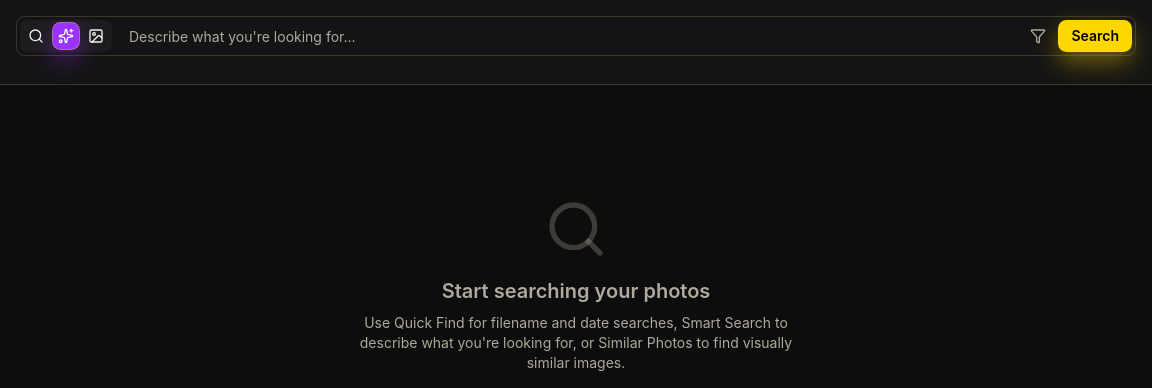
SearchPage Component › displays empty state variations
The image size is (1152, 388).
Type "none" into the field with placeholder "Describe what you're looking for...".
click(576, 36); type("none")  # box [16,16,1136,56]
Then press Enter
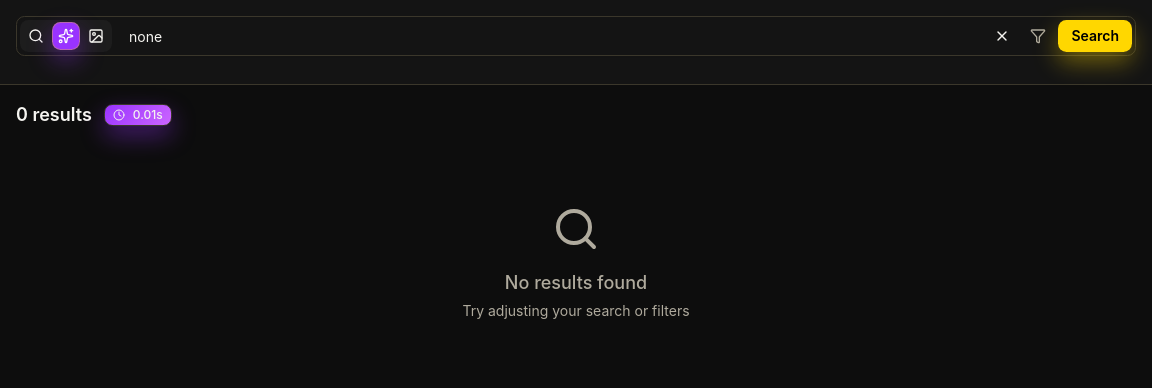
Expected: the text "No results found" is shown, [505,269,647,297]
Expected: the text "Try adjusting your search or filters" is shown, [462,301,690,321]
